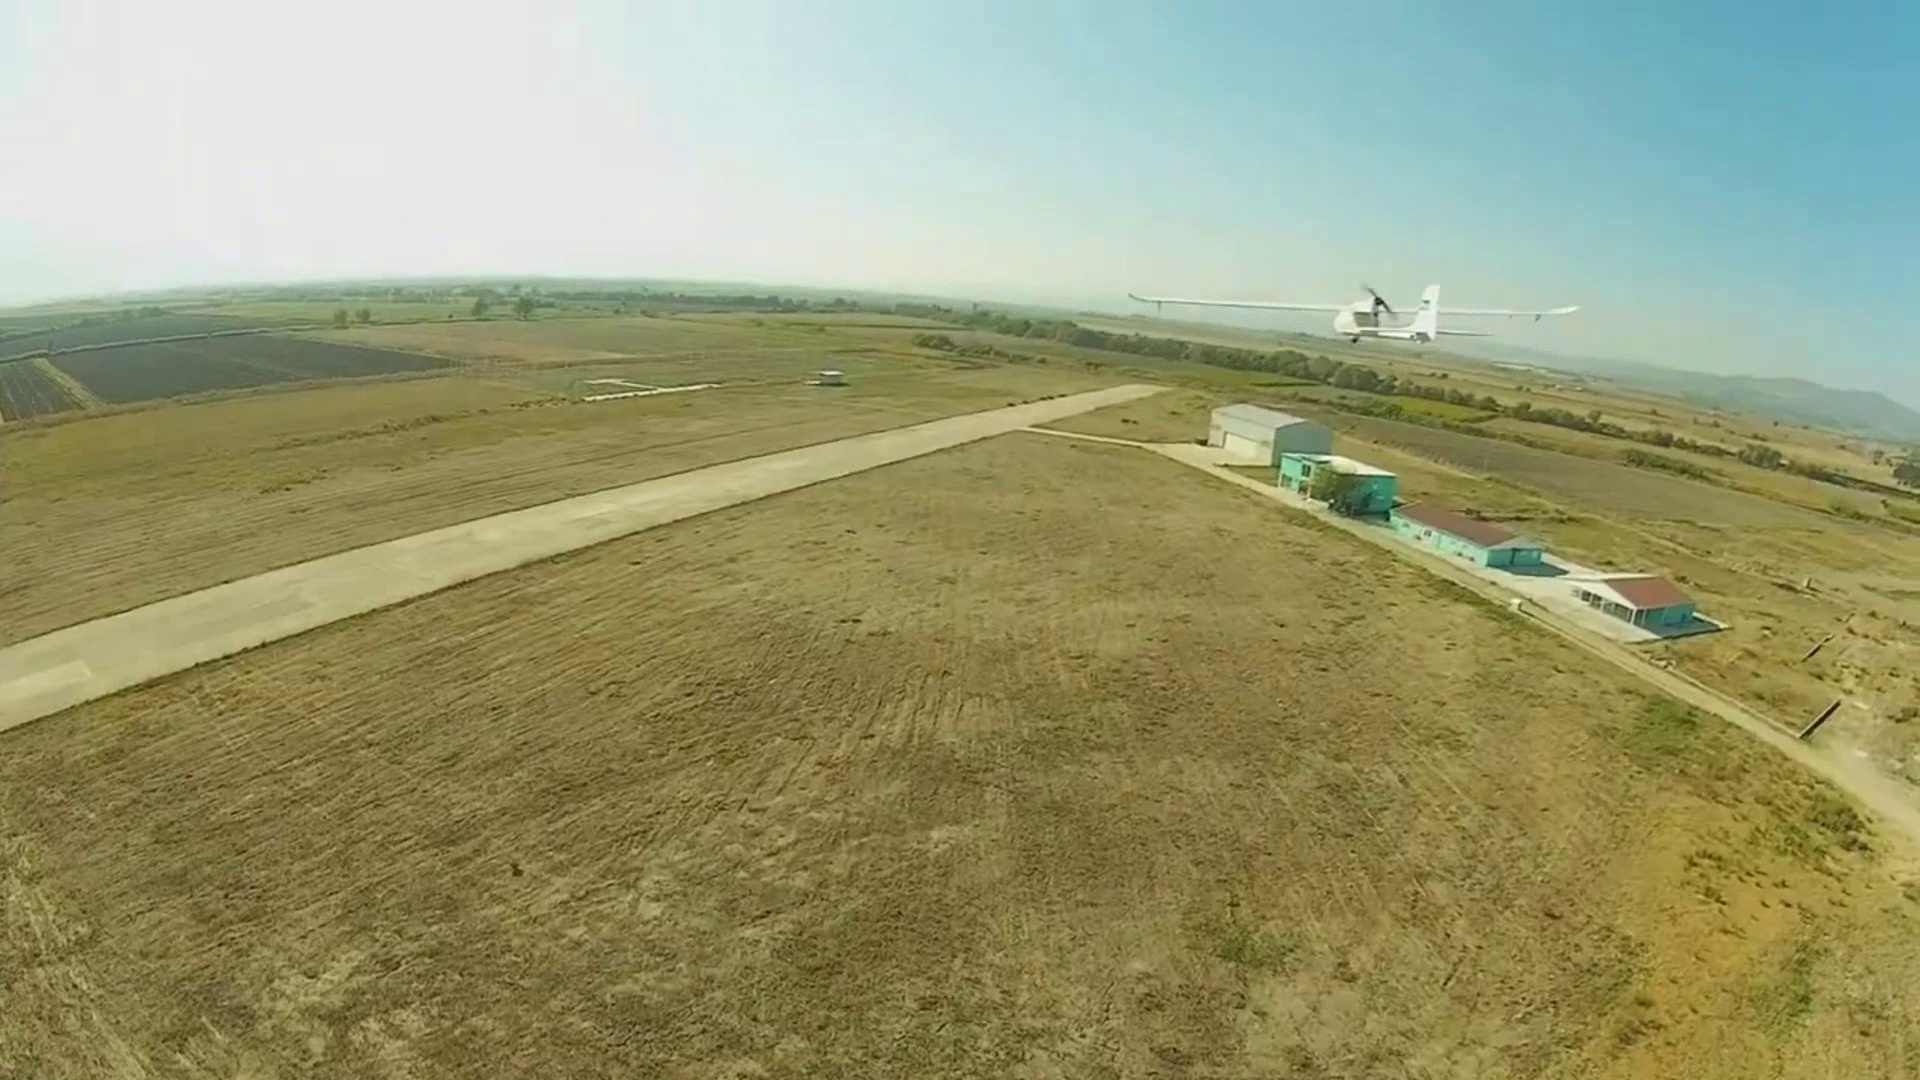airplane: (1332, 284, 1437, 345)
